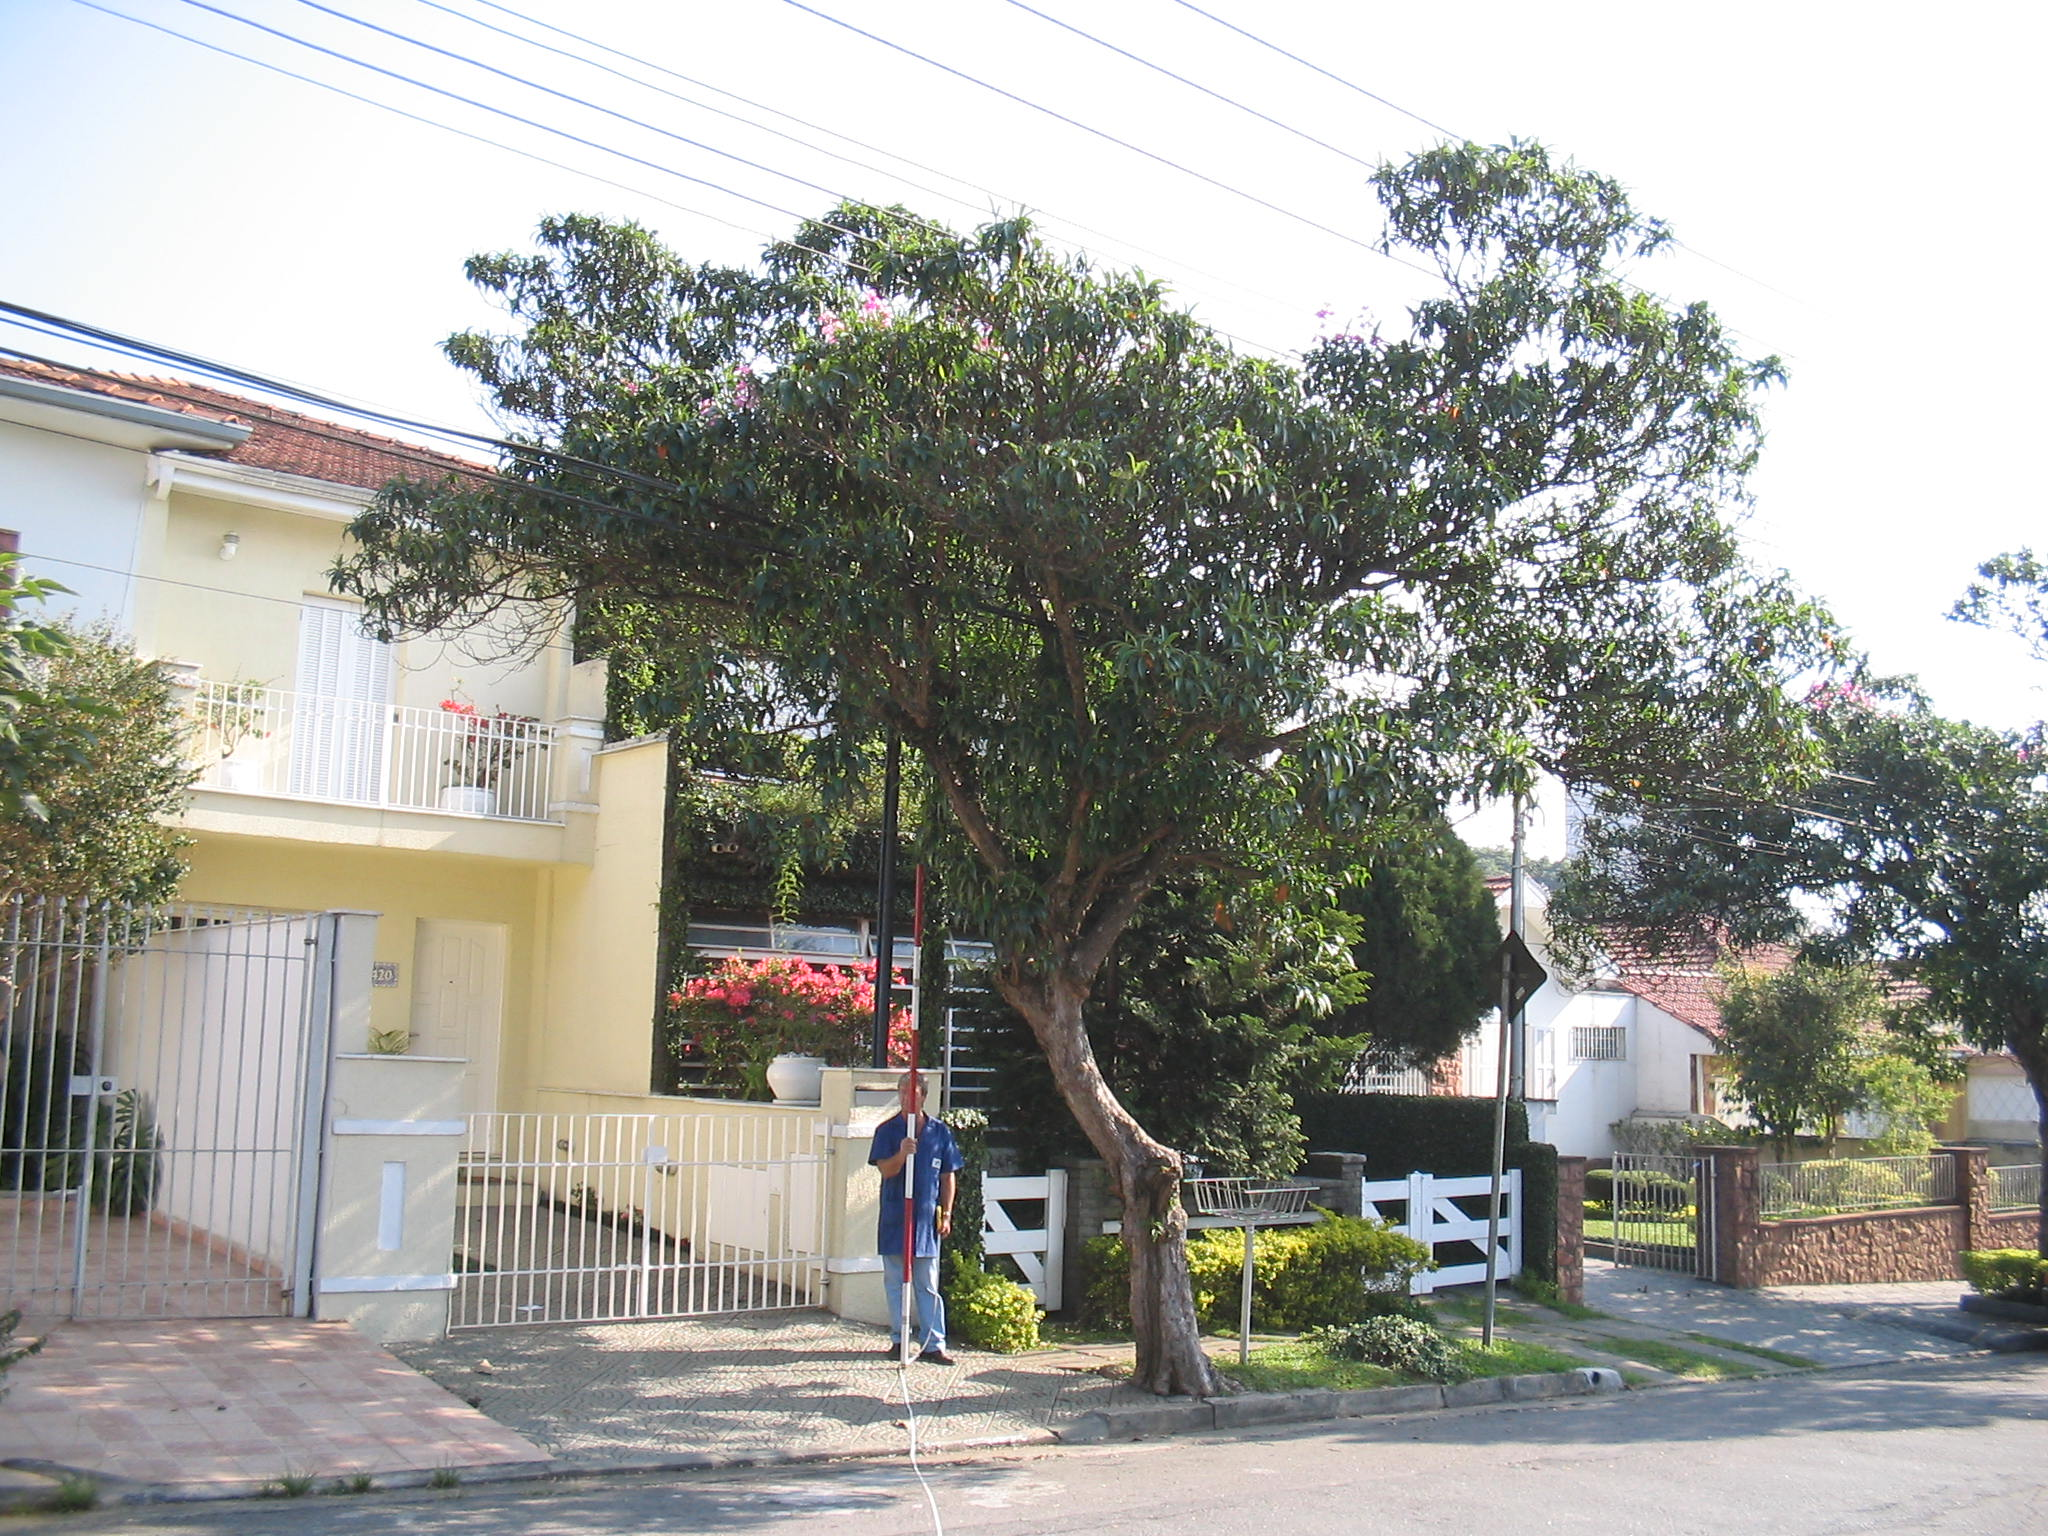crown: (331, 148, 1792, 934)
stem: (1005, 1007, 1251, 1396)
stick: (877, 865, 953, 1363)
tree: (323, 140, 1798, 1400)
